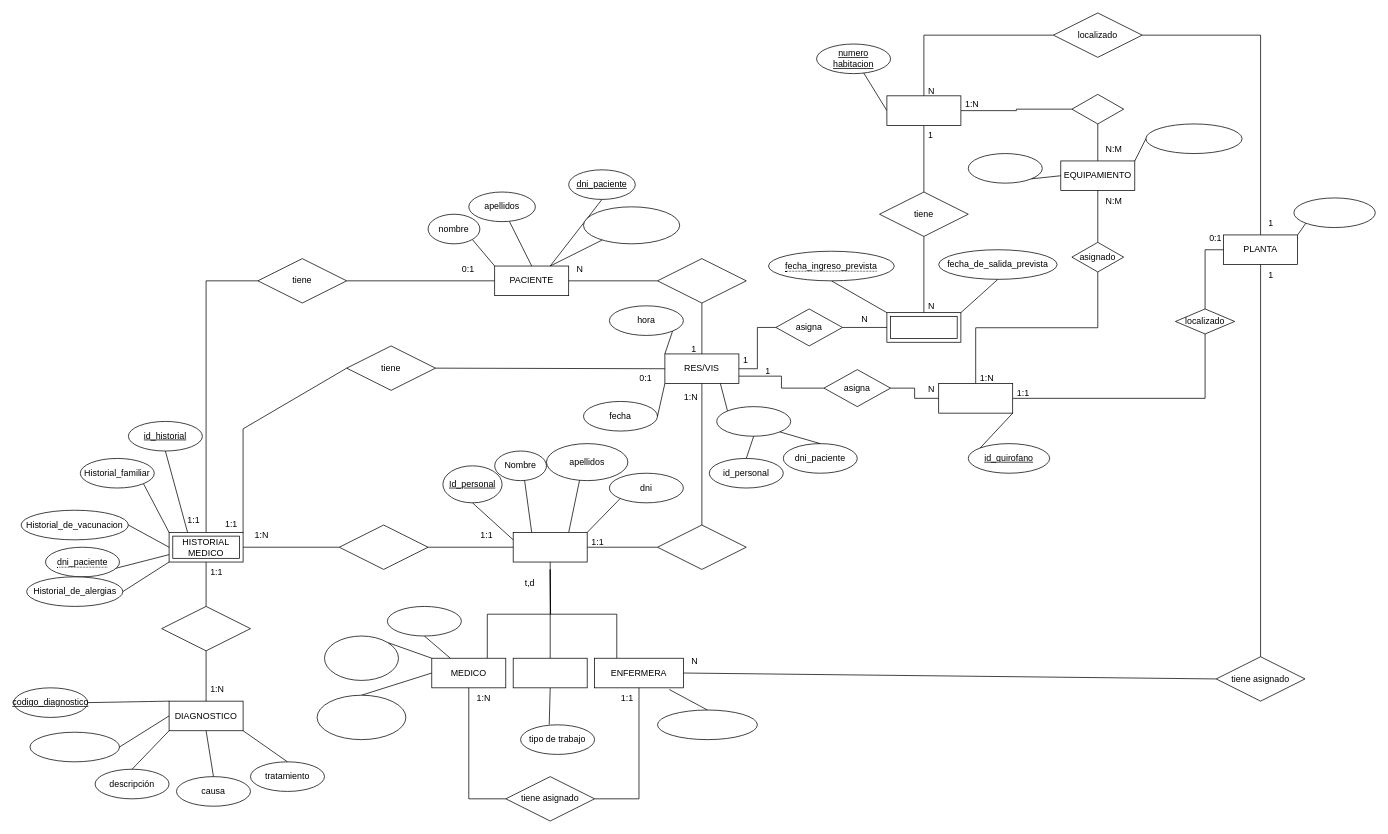
Image size: 1388x834. Some labels were removed from this diagram. Here are the shapes that lost their labels. From the top down, the box of each, then its label:
(886, 95, 961, 125): HABITACION
(1071, 94, 1124, 124): equipa
(1145, 123, 1242, 154): nombre_dispositivo
(968, 153, 1042, 183): id_dispositivo
(583, 206, 680, 244): Medicaments_recibidos
(1293, 197, 1375, 228): numero_planta
(657, 258, 746, 303): solicita
(886, 312, 961, 342): HABITACION VISITADA
(938, 383, 1013, 413): QUIROFANO
(716, 406, 791, 436): Id_visita
(339, 524, 428, 569): crea
(512, 532, 587, 562): PERSONAL
(657, 524, 746, 569): realiza
(161, 606, 250, 651): obtiene
(387, 606, 461, 636): estudios
(324, 635, 398, 680): especialidad
(512, 657, 587, 688): VARIO
(316, 694, 406, 740): curriculums
(657, 709, 757, 740): años_de_experiencia
(29, 731, 120, 762): Nombre_diagnostico
